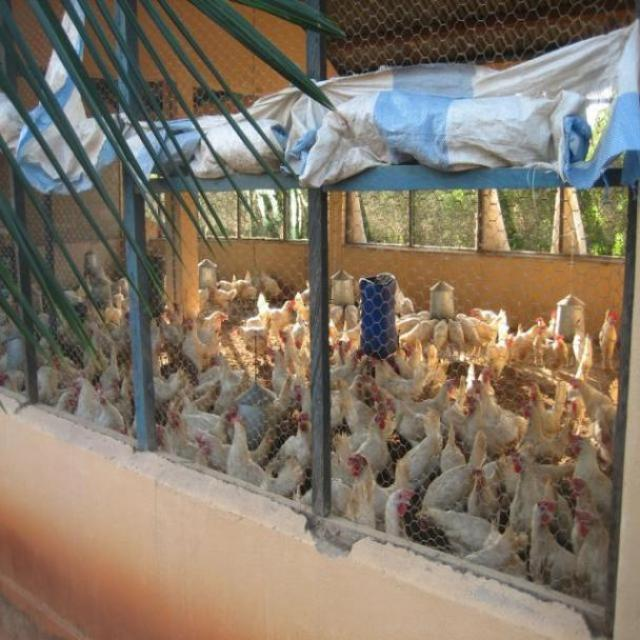Chicken: (375, 482, 408, 538), (598, 308, 619, 369), (208, 285, 236, 312)
